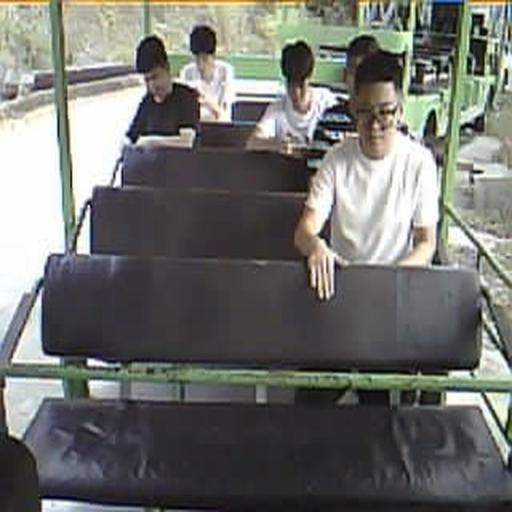persona: (294, 49, 440, 406), (306, 36, 413, 191), (246, 39, 342, 153), (120, 34, 202, 149), (178, 24, 236, 122)
